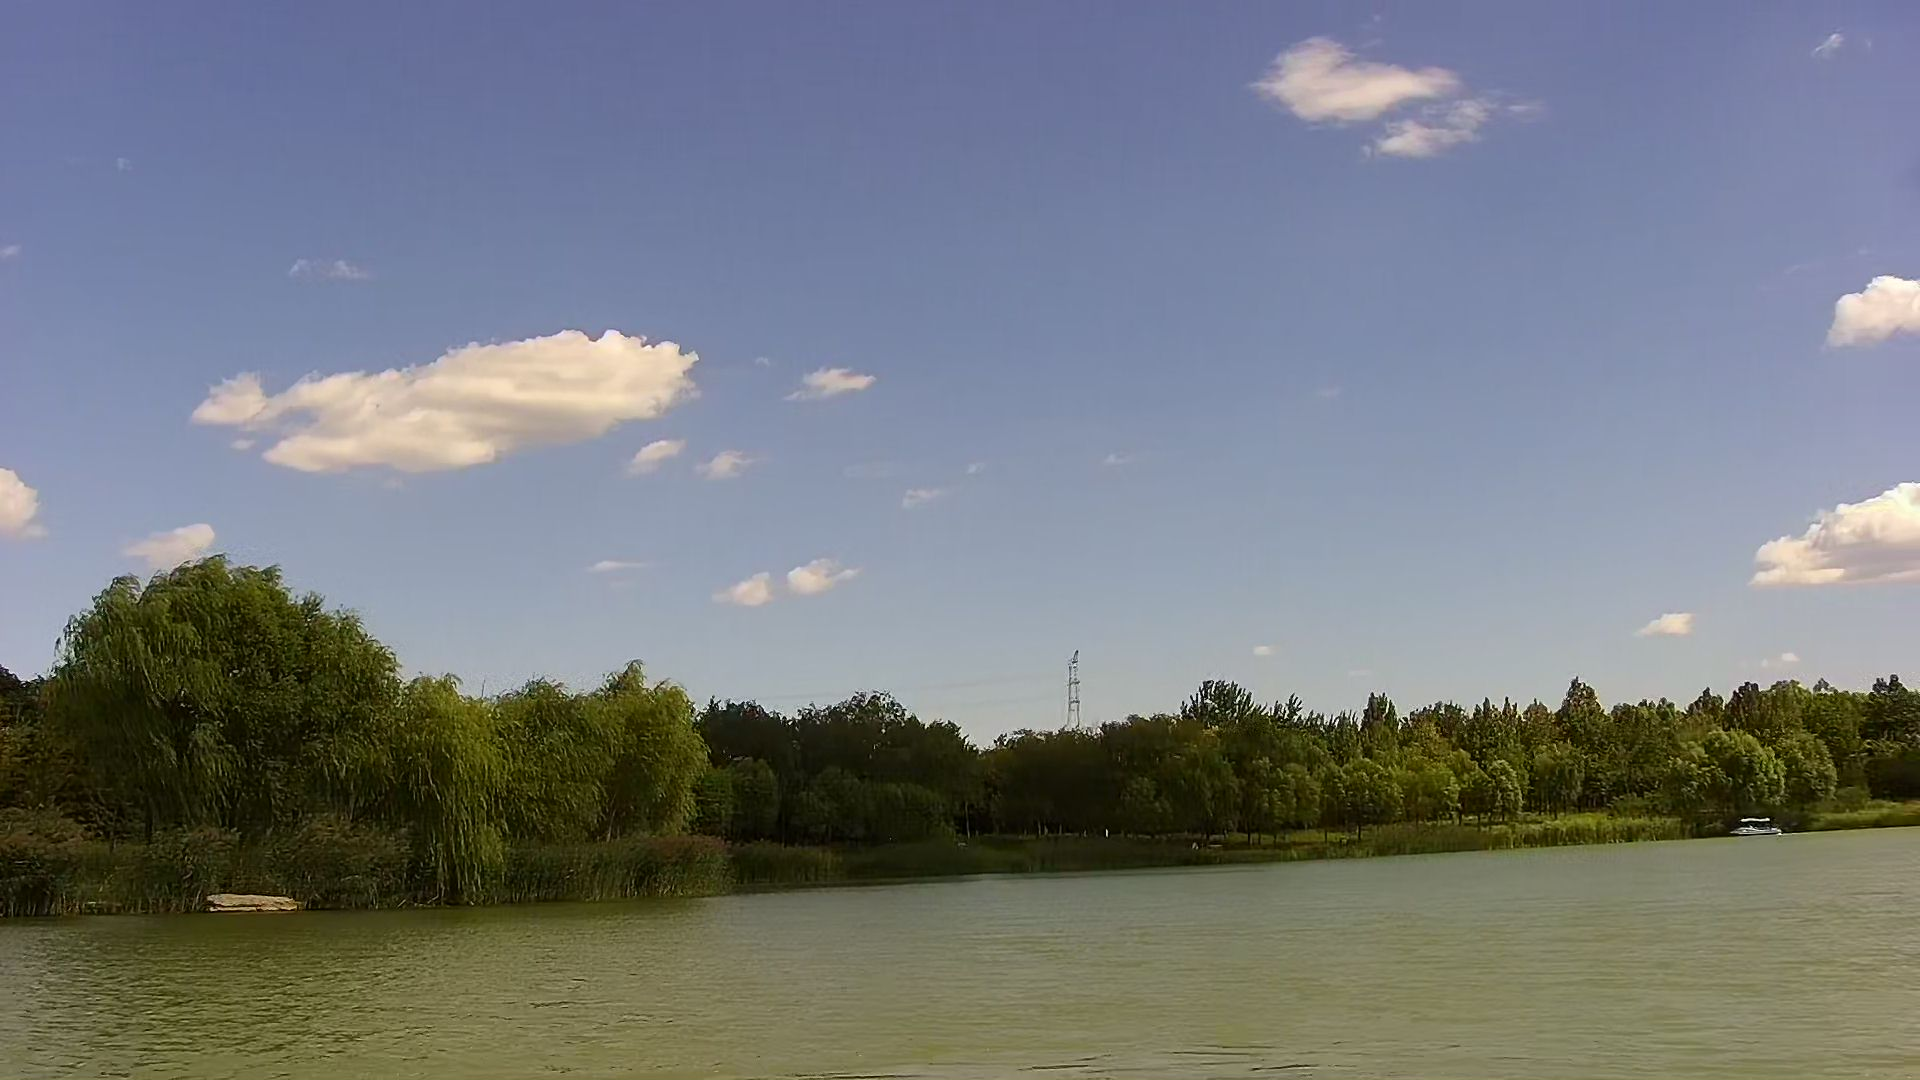boat: (1733, 815, 1782, 839)
